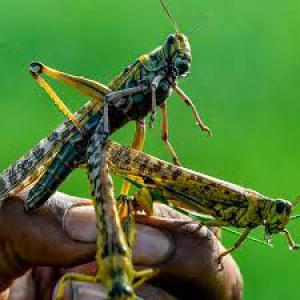locust: (1, 24, 204, 204), (104, 141, 300, 246)
